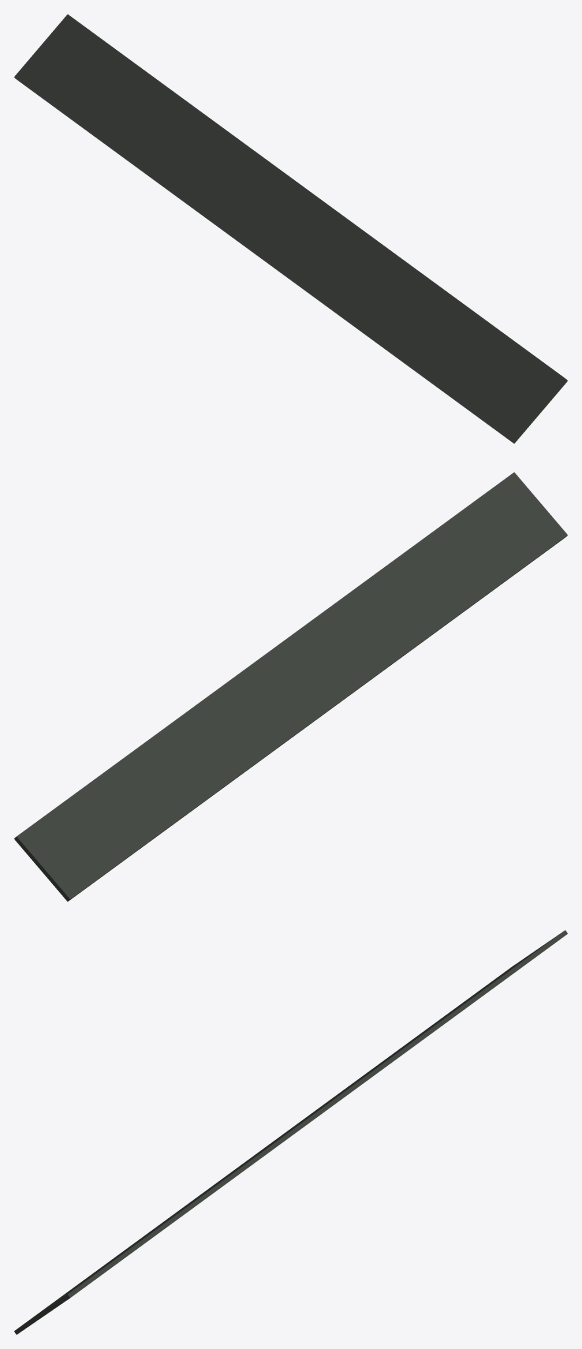
Rendered from fbx_restaurant_ex_fence.fbx.
3 renders of one model, top to bottom at view 1: azimuth 30°, elevation 25°; view 2: azimuth 150°, elevation 25°; view 3: azimuth 330°, elevation 25°, orthographic.
Parts seen in each view (by area): view 1: fbx_restaurant_ex_fence; view 2: fbx_restaurant_ex_fence; view 3: fbx_restaurant_ex_fence.
Part boxes in pixels (x1=…): fbx_restaurant_ex_fence: x1=14, y1=14, x2=567, y2=443; fbx_restaurant_ex_fence: x1=14, y1=472, x2=567, y2=901; fbx_restaurant_ex_fence: x1=14, y1=930, x2=567, y2=1334.
Size of the model in its own units: 0.3324 by 0.2993 by 5.09.
Materials: 1 (1 with a texture image).
